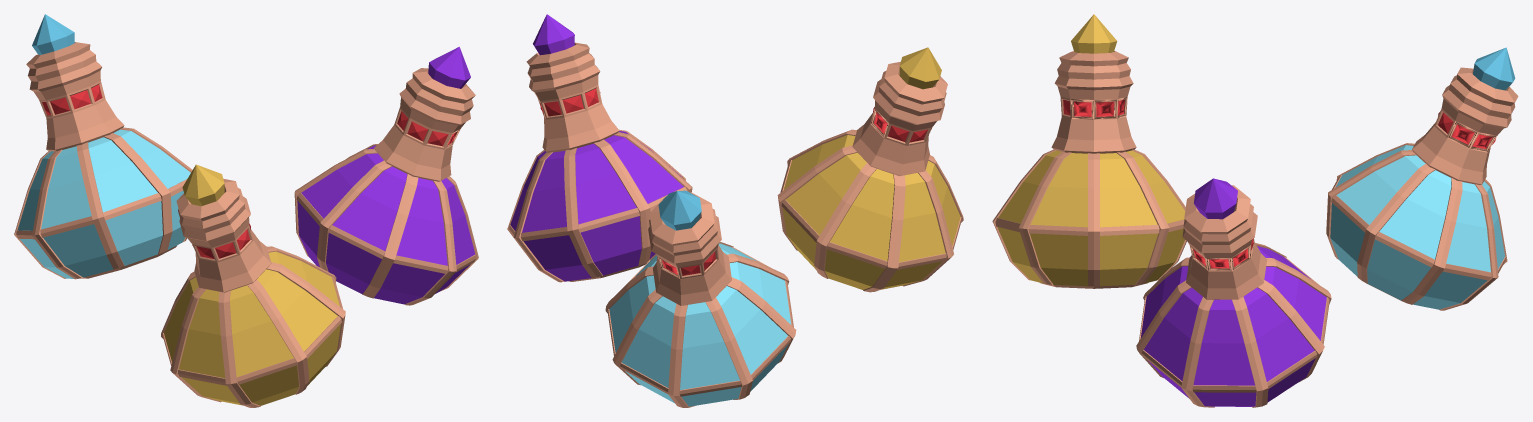
The model's file is pocionTriple.fbx.
The picture shows the model from 3 angles, left to right: view 1: azimuth 30°, elevation 25°; view 2: azimuth 150°, elevation 25°; view 3: azimuth 270°, elevation 25°; orthographic projection. The views are drawn at different scales.
Parts seen in each view (by area): view 1: Cylinder.014, Cylinder.017, Cylinder.001, Cylinder.015, Cylinder, Cylinder.016, Cylinder.020, Cylinder.011, Cylinder.004, Cylinder.023, Cylinder.008, Cylinder.007 (+6 smaller); view 2: Cylinder.017, Cylinder.001, Cylinder.014, Cylinder.016, Cylinder.015, Cylinder, Cylinder.020, Cylinder.004, Cylinder.011, Cylinder.023, Cylinder.007, Cylinder.002 (+5 smaller); view 3: Cylinder.017, Cylinder.001, Cylinder.014, Cylinder.016, Cylinder, Cylinder.015, Cylinder.004, Cylinder.011, Cylinder.020, Cylinder.008, Cylinder.007, Cylinder.023 (+5 smaller).
Boxes of the visible parts, left/top/right/bottom form: Cylinder.014: left=297, top=145, right=475, bottom=304; Cylinder.017: left=164, top=246, right=340, bottom=405; Cylinder.001: left=17, top=129, right=190, bottom=278; Cylinder.015: left=374, top=68, right=475, bottom=181; Cylinder: left=26, top=42, right=124, bottom=151; Cylinder.016: left=176, top=179, right=271, bottom=292; Cylinder.020: left=161, top=246, right=345, bottom=407; Cylinder.011: left=294, top=144, right=478, bottom=305; Cylinder.004: left=14, top=127, right=192, bottom=279; Cylinder.023: left=162, top=276, right=342, bottom=385; Cylinder.008: left=296, top=192, right=476, bottom=273; Cylinder.007: left=16, top=179, right=186, bottom=239; Cylinder.017: left=782, top=130, right=960, bottom=289; Cylinder.001: left=609, top=243, right=791, bottom=406; Cylinder.014: left=510, top=131, right=683, bottom=281; Cylinder.016: left=852, top=61, right=947, bottom=176; Cylinder.015: left=526, top=42, right=619, bottom=152; Cylinder: left=648, top=192, right=731, bottom=305; Cylinder.020: left=777, top=129, right=963, bottom=292; Cylinder.004: left=605, top=242, right=796, bottom=407; Cylinder.011: left=507, top=129, right=692, bottom=282; Cylinder.023: left=780, top=160, right=961, bottom=269; Cylinder.007: left=607, top=247, right=793, bottom=396; Cylinder.002: left=658, top=190, right=701, bottom=230; Cylinder.017: left=997, top=150, right=1185, bottom=286; Cylinder.001: left=1330, top=145, right=1504, bottom=309; Cylinder.014: left=1140, top=246, right=1326, bottom=406; Cylinder.016: left=1051, top=51, right=1136, bottom=153; Cylinder: left=1412, top=67, right=1518, bottom=184; Cylinder.015: left=1182, top=185, right=1266, bottom=299; Cylinder.004: left=1326, top=143, right=1507, bottom=310; Cylinder.011: left=1136, top=243, right=1331, bottom=407; Cylinder.020: left=992, top=149, right=1186, bottom=286; Cylinder.008: left=1139, top=256, right=1329, bottom=392; Cylinder.007: left=1331, top=174, right=1505, bottom=280; Cylinder.023: left=995, top=218, right=1184, bottom=235.
Size of the model in its own units: 651 by 423 by 800.
